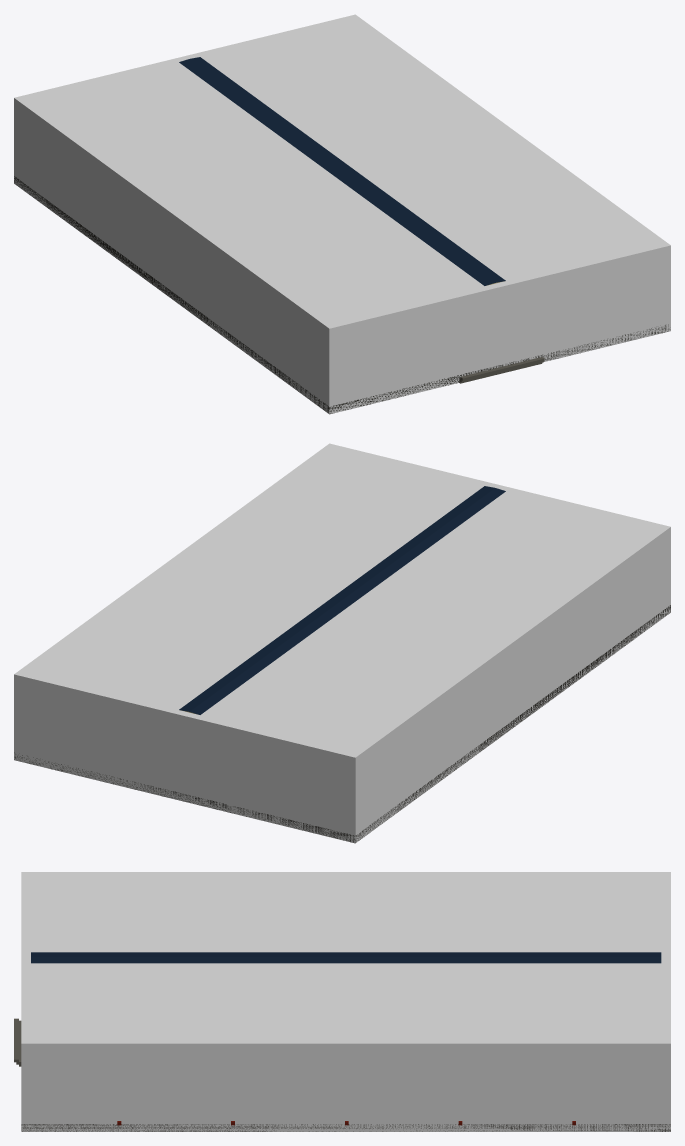
Rendered from B19_wholesale_market.glb.
3 renders of one model, top to bottom at view 1: azimuth 30°, elevation 25°; view 2: azimuth 150°, elevation 25°; view 3: azimuth 270°, elevation 25°, orthographic. The views are drawn at different scales.
Visible parts, largest first — view 1: COL_Main, LOD0; view 2: COL_Main, LOD0; view 3: COL_Main, LOD0.
Part boxes in pixels (x1,y1,x2,y2): COL_Main: (14, 14, 670, 414); LOD0: (14, 57, 670, 413); COL_Main: (14, 443, 670, 843); LOD0: (14, 486, 670, 842); COL_Main: (21, 872, 670, 1131); LOD0: (14, 952, 670, 1131).
Size of what is drawn, in the model's own units: 50.39 by 12.1 by 80.9.
